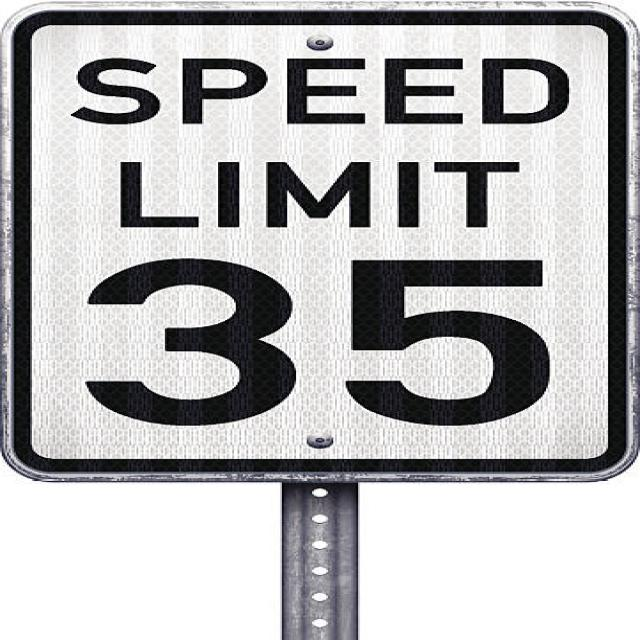speedLimit35: (5, 1, 640, 479)
